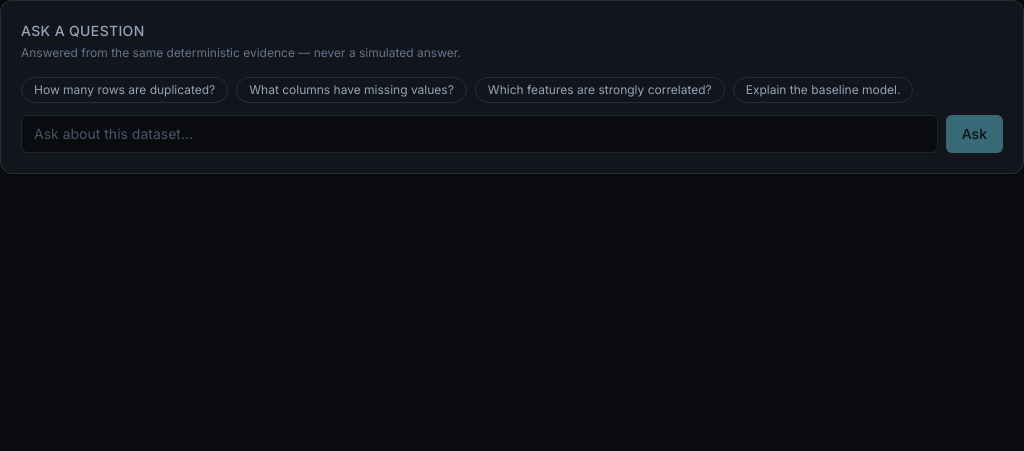
Test case: QaPanel › shows an unsupported-question state without fabricating an answer
Type "What was the model's F1 score?" into the field with placeholder "Ask about this dataset…" at (479,134), box [21, 115, 938, 153]
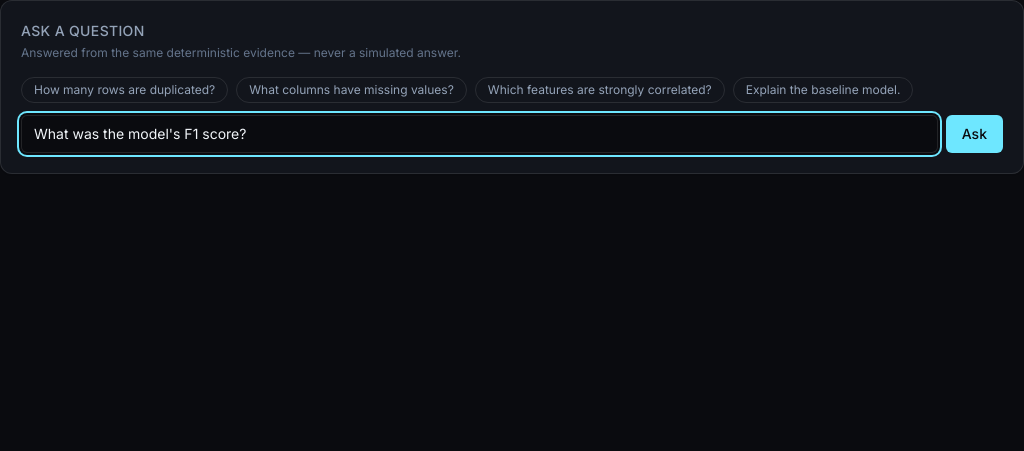
Click the button "Ask" at (974,134), box [946, 115, 1003, 153]
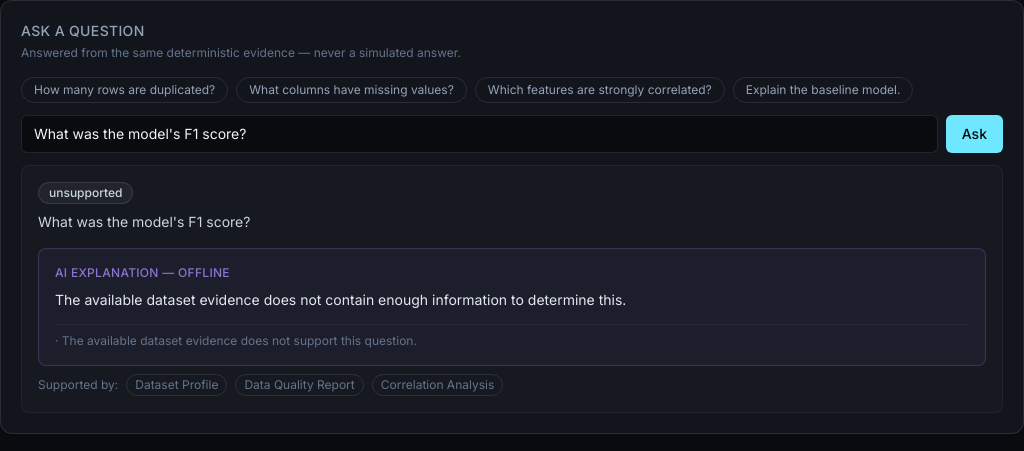
Check: the text "unsupported" is shown, box [38, 182, 134, 204]
